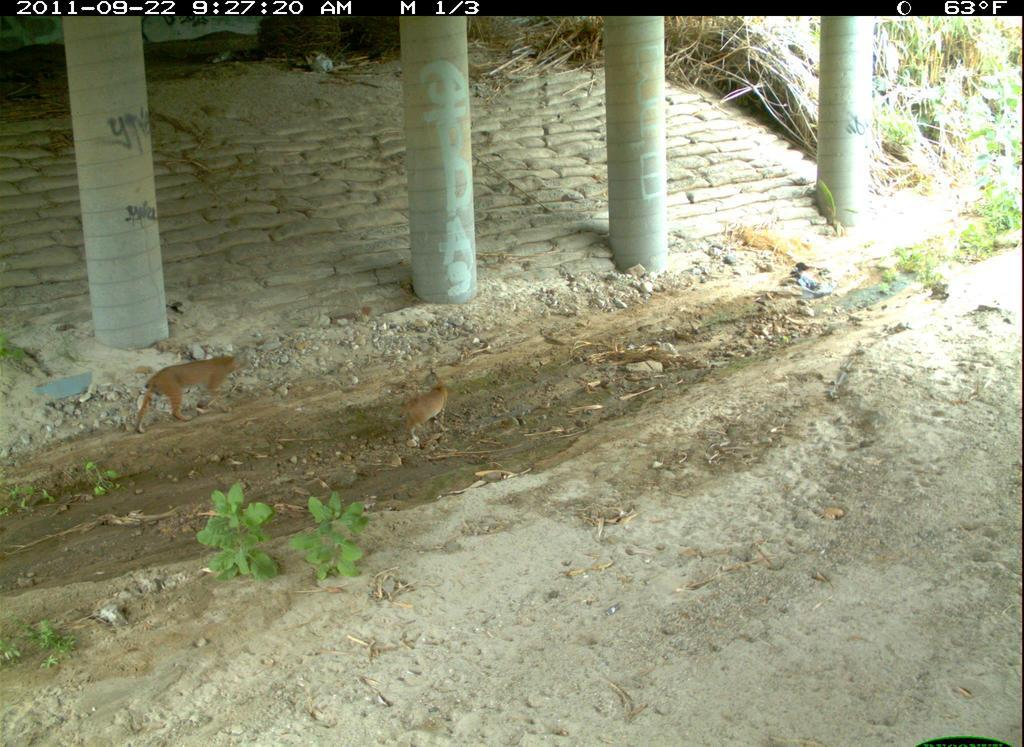bobcat: (258, 693, 492, 747)
